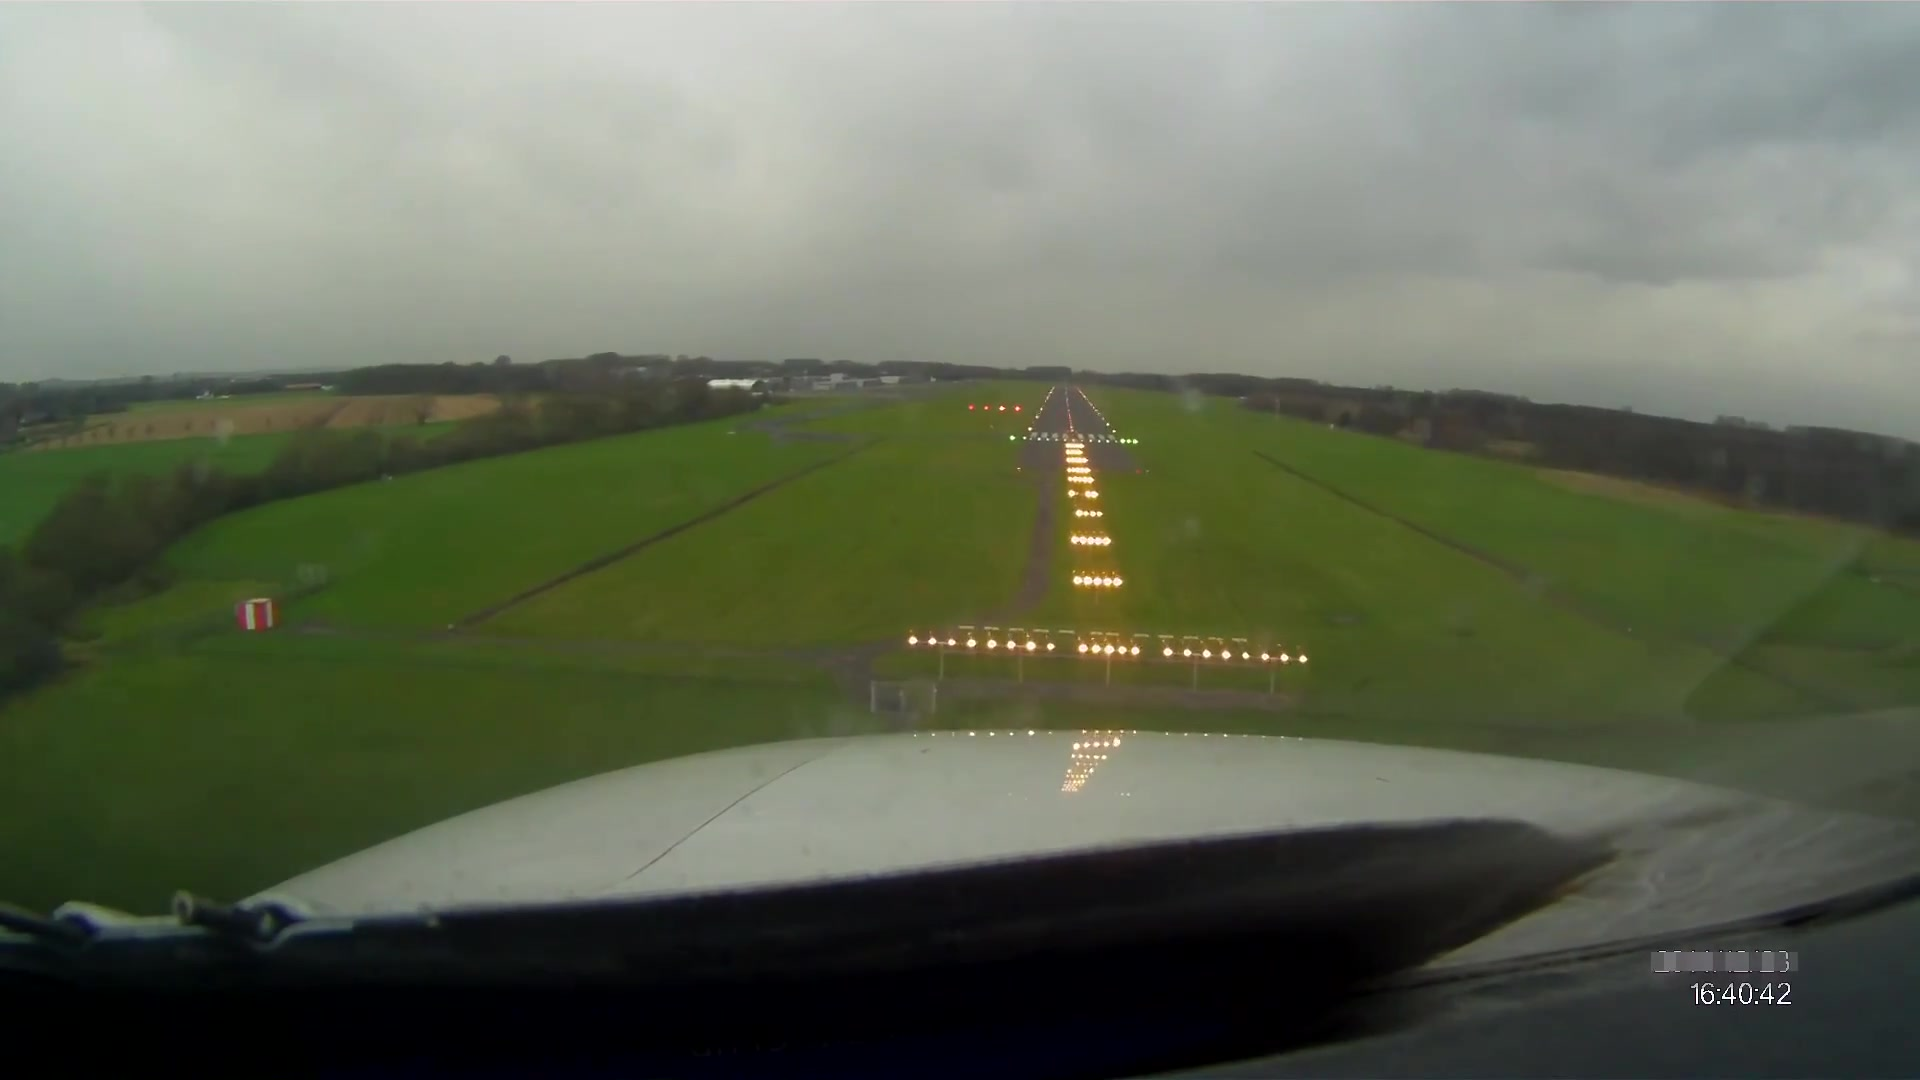runway: (1027, 388, 1129, 443)
